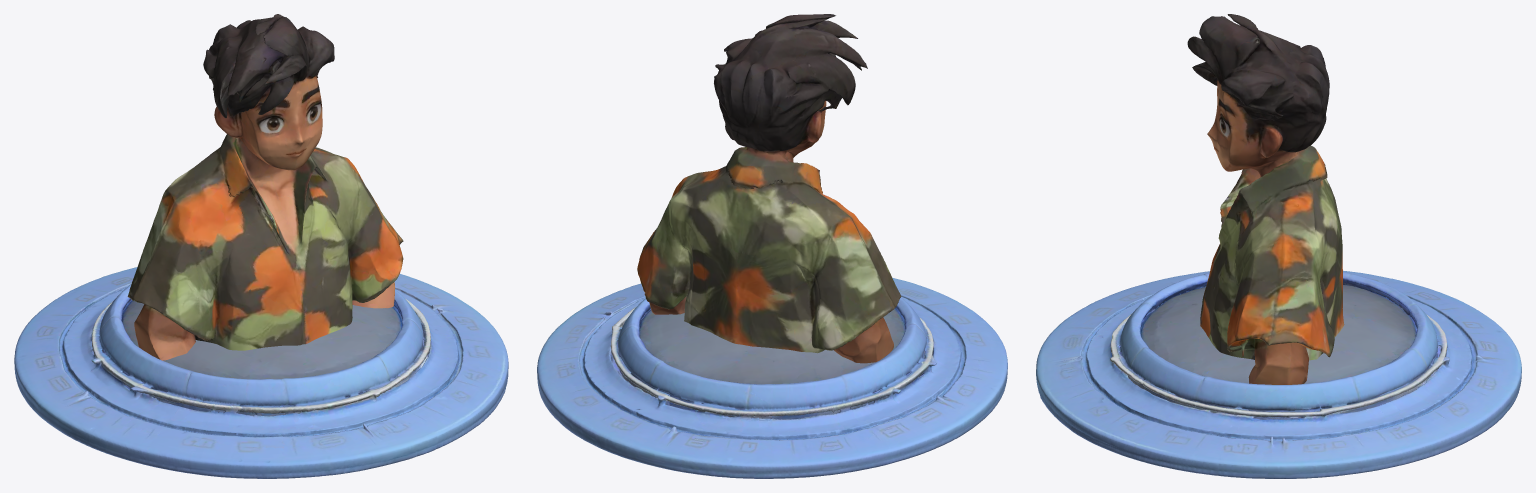
Rendered from portfolio-robot.glb.
3 renders of one model, left to right at view 1: azimuth 30°, elevation 25°; view 2: azimuth 150°, elevation 25°; view 3: azimuth 270°, elevation 25°, orthographic. The views are drawn at different scales.
Visible parts, largest first — view 1: Mesh_0.001, Mesh_0; view 2: Mesh_0.001, Mesh_0; view 3: Mesh_0.001, Mesh_0.
Part boxes in pixels (bbox=[...]): Mesh_0.001: bbox=[14, 267, 508, 478]; Mesh_0: bbox=[127, 14, 403, 360]; Mesh_0.001: bbox=[537, 277, 1007, 478]; Mesh_0: bbox=[637, 14, 901, 363]; Mesh_0.001: bbox=[1036, 270, 1521, 478]; Mesh_0: bbox=[1187, 14, 1344, 384].
Bounding box in the file's own units: 3.22 × 2.66 × 3.31.
2 materials, 2 textured.
